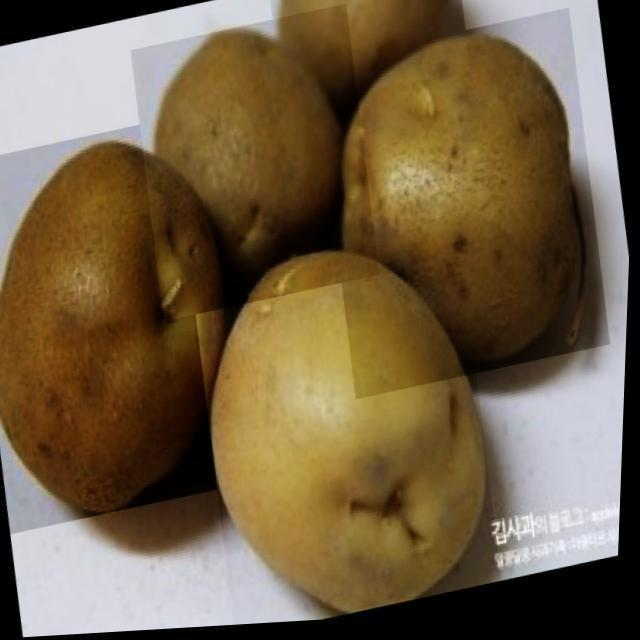potato: (181, 214, 517, 631), (306, 12, 624, 406), (0, 110, 264, 536), (123, 6, 390, 326), (265, 0, 474, 112)
